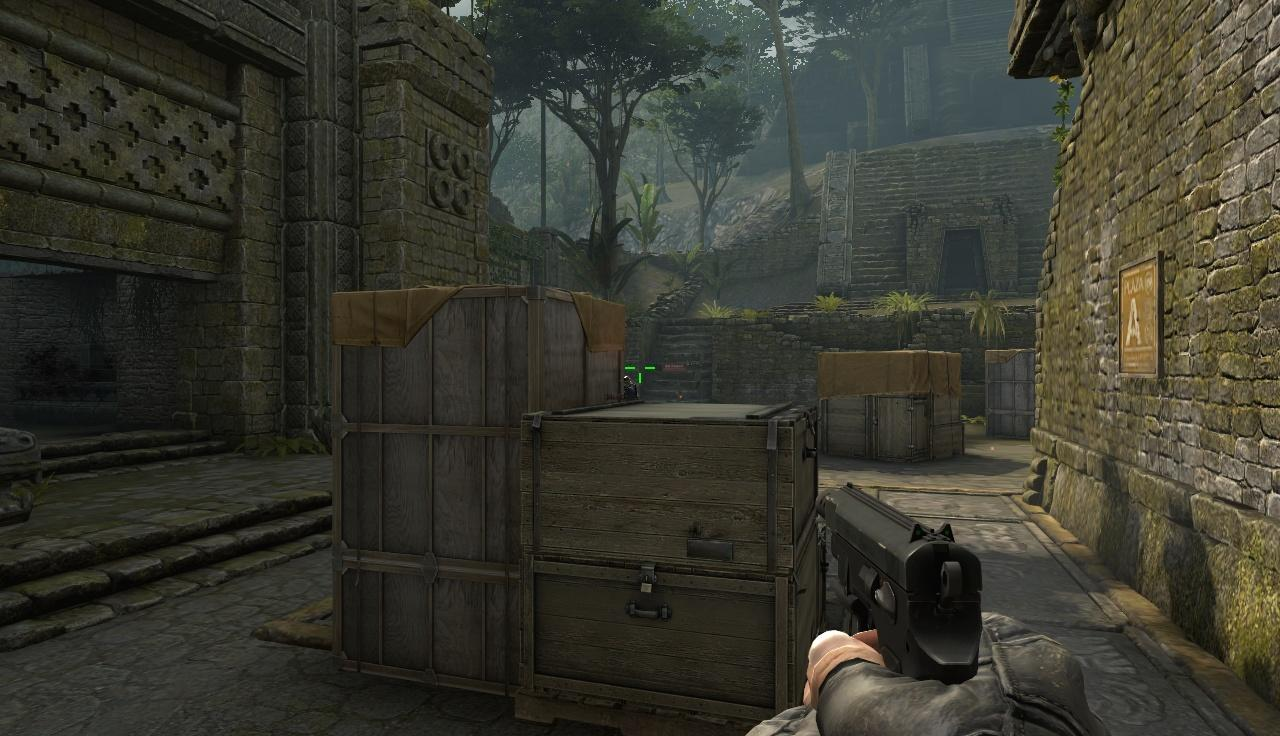ct: (623, 375, 638, 400)
cthead: (623, 376, 632, 386)
pistol: (806, 485, 1066, 736)
